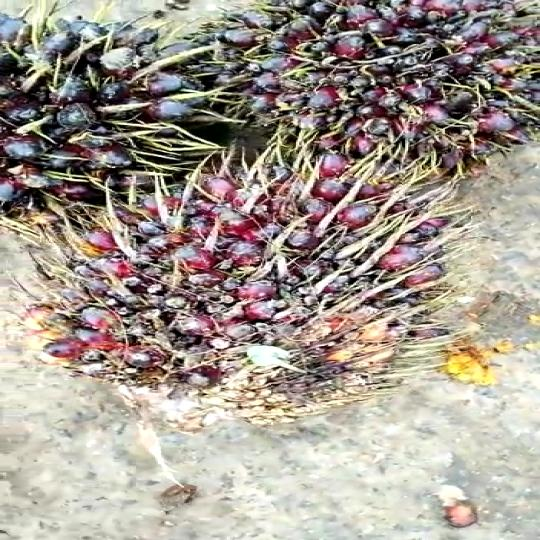kurang masak: (52, 144, 467, 434), (166, 0, 540, 156), (0, 9, 199, 188)
